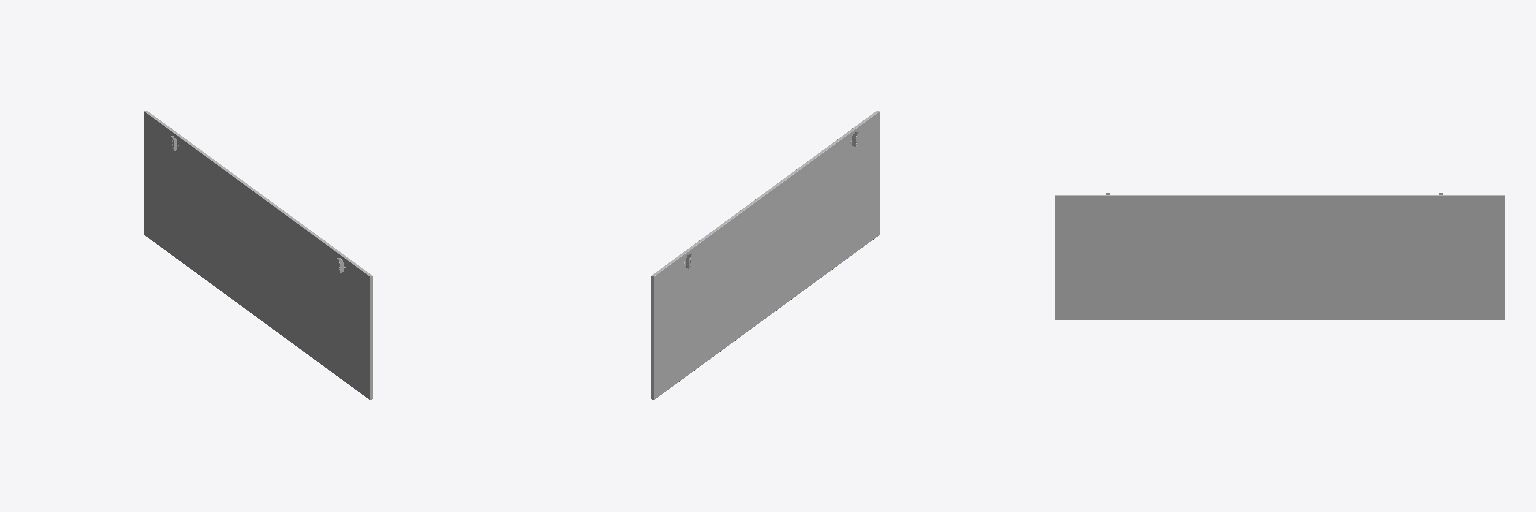
The model's file is ClosetDoorRight.obj.
The picture shows the model from 3 angles: view 1: azimuth 30°, elevation 25°; view 2: azimuth 150°, elevation 25°; view 3: azimuth 270°, elevation 25°; orthographic projection.
Parts seen in each view (by area): view 1: ClosetDoorRight; view 2: ClosetDoorRight; view 3: ClosetDoorRight.
Boxes of the visible parts, <box> form: ClosetDoorRight: <box>144,111,372,399</box>; ClosetDoorRight: <box>651,111,879,399</box>; ClosetDoorRight: <box>1055,193,1504,319</box>.
Size of the model in its own units: 0.0342 by 0.4993 by 1.65.